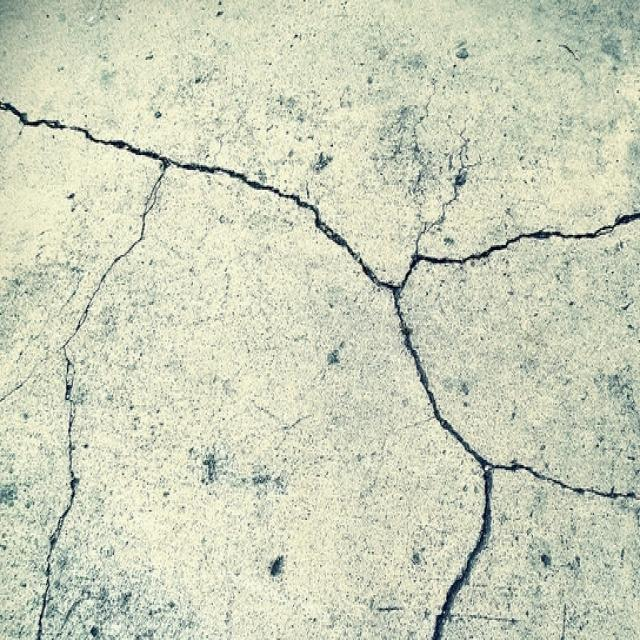crack: (2, 96, 638, 636)
